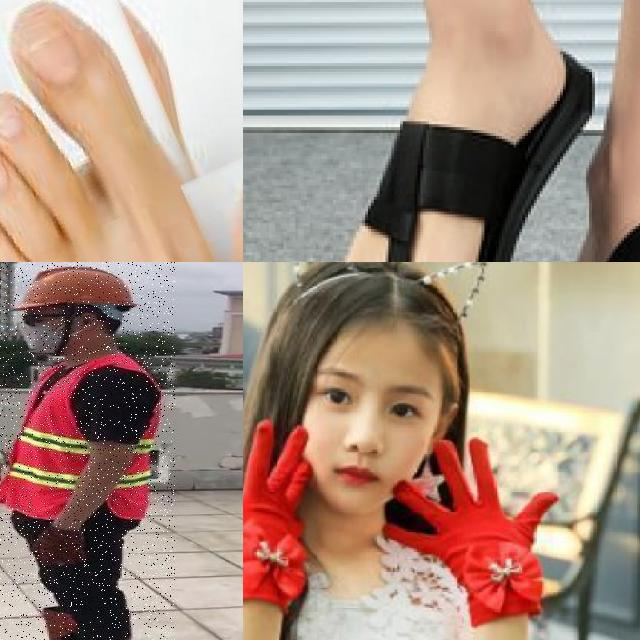Barefoots: (0, 0, 223, 262)
No_Glasses: (315, 369, 427, 440)
boots: (0, 607, 79, 640)
face_nomask: (305, 345, 439, 494)
hand_glove: (382, 438, 558, 602), (243, 419, 316, 605)
head_helmet: (7, 262, 138, 312)
head_nohelmet: (254, 262, 492, 365)
person: (243, 262, 557, 640), (0, 262, 175, 640)
vest: (0, 357, 159, 521)
